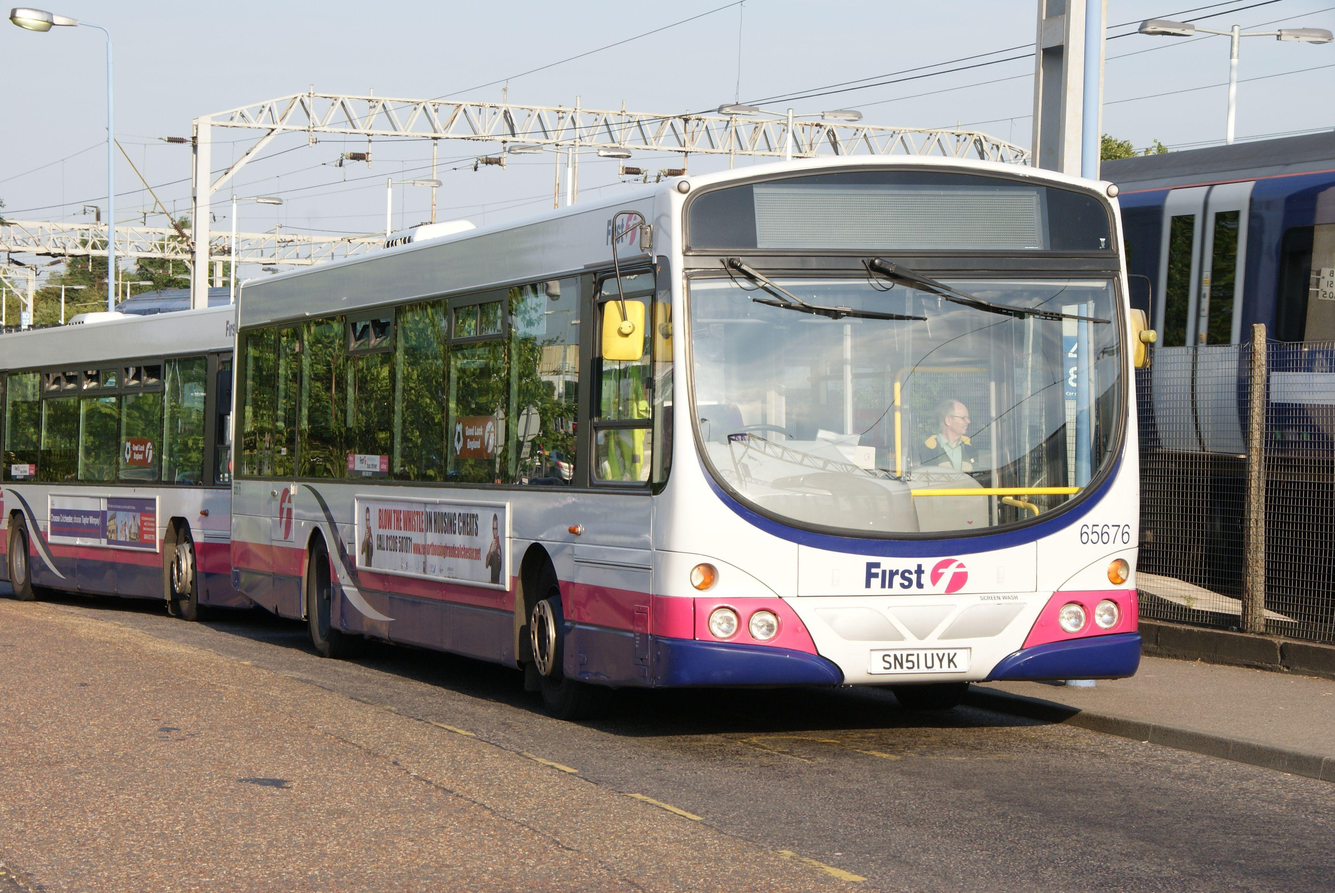Bus: (223, 178, 1147, 719)
